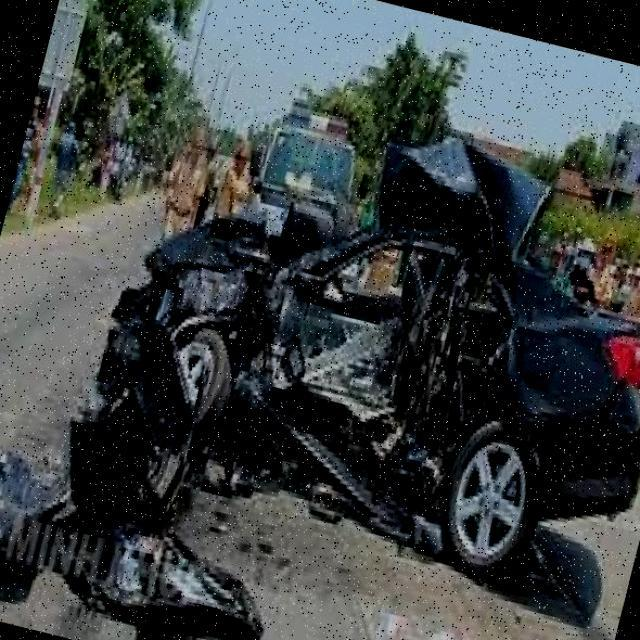accident: (39, 116, 630, 640)
